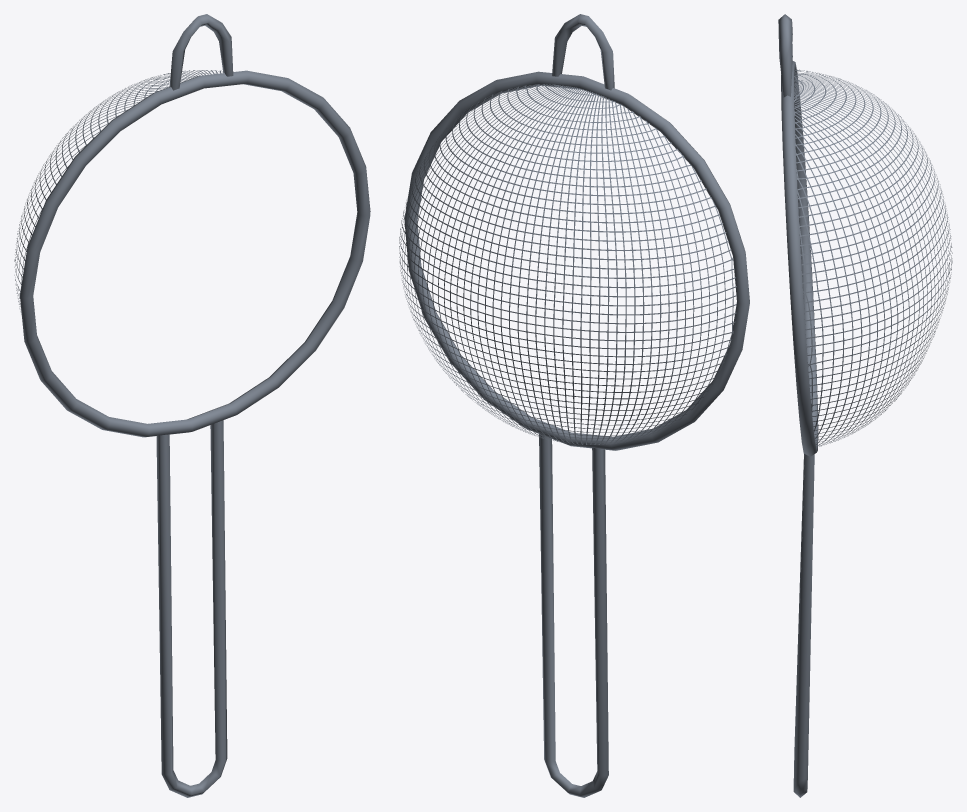
Rendered from Mesh Strainer.glb.
The picture shows the model from 3 angles, left to right: view 1: azimuth 30°, elevation 25°; view 2: azimuth 150°, elevation 25°; view 3: azimuth 270°, elevation 25°; orthographic projection.
Visible parts, largest first — view 1: cutensils_mesh_strainer_Sphere.006; view 2: cutensils_mesh_strainer_Sphere.006; view 3: cutensils_mesh_strainer_Sphere.006.
Part boxes in pixels (left/top/right/bottom): cutensils_mesh_strainer_Sphere.006: left=14, top=14, right=370, bottom=797; cutensils_mesh_strainer_Sphere.006: left=399, top=14, right=749, bottom=797; cutensils_mesh_strainer_Sphere.006: left=778, top=14, right=952, bottom=797.
Size of the model in its own units: 3.53 by 7.57 by 1.53.
Materials: 1 (1 with a texture image).
